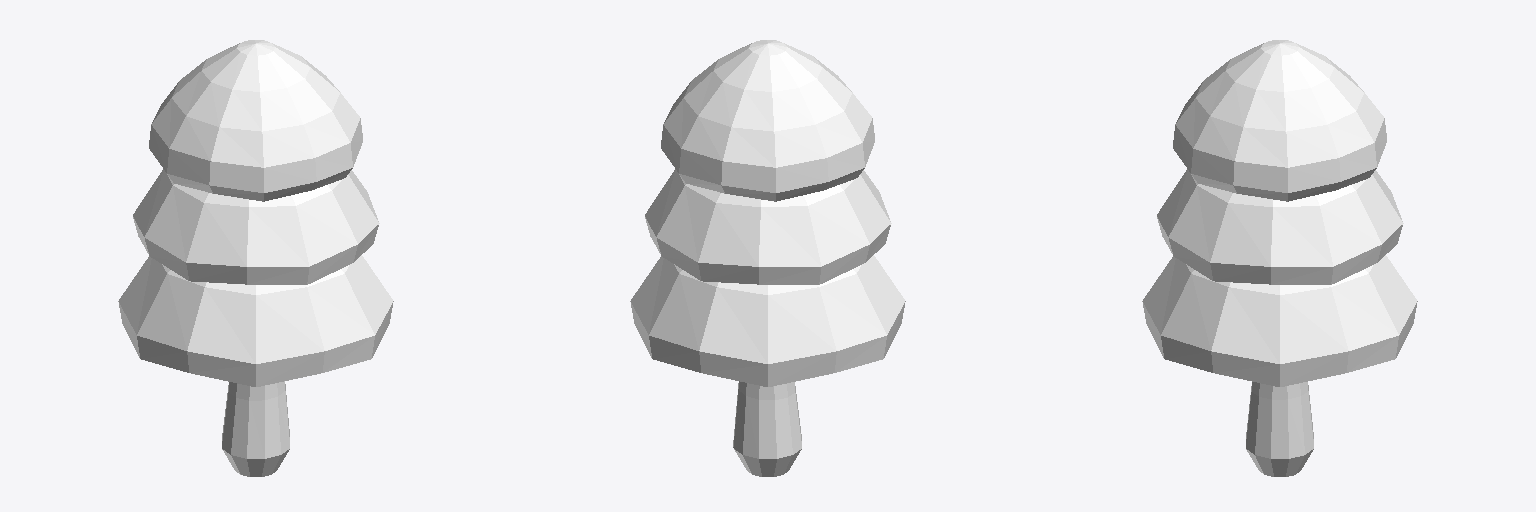
File: tree_large.obj
3 renders of one model, left to right at view 1: azimuth 30°, elevation 25°; view 2: azimuth 150°, elevation 25°; view 3: azimuth 270°, elevation 25°, orthographic.
Visible parts, largest first — view 1: tree_large; view 2: tree_large; view 3: tree_large.
Boxes of the visible parts, x1=… form: tree_large: x1=118, y1=40, x2=393, y2=476; tree_large: x1=630, y1=40, x2=905, y2=476; tree_large: x1=1142, y1=40, x2=1417, y2=476.
Size of the model in its own units: 2.48 by 4.23 by 2.48.